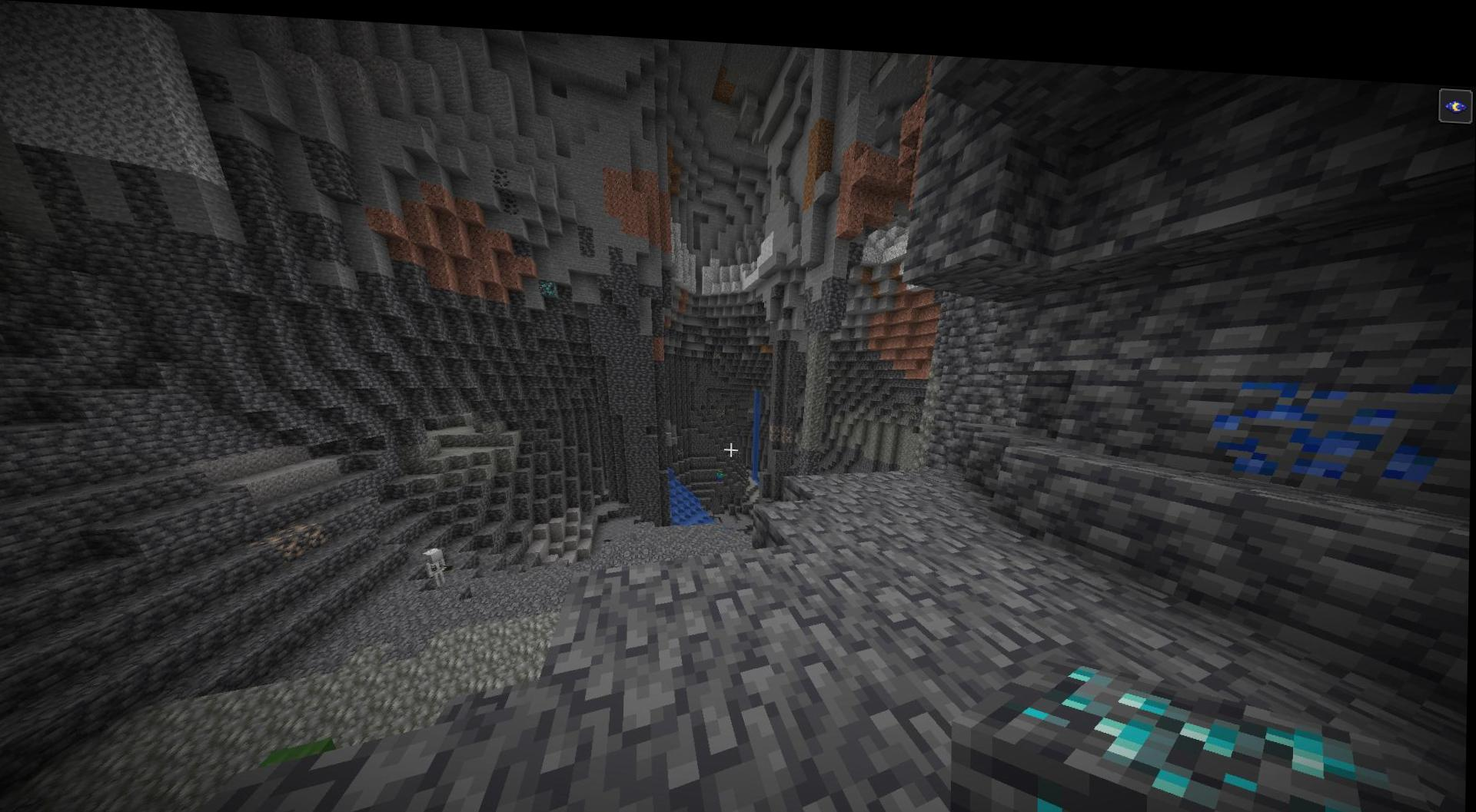diamond ore: (1006, 645, 1420, 812), (541, 271, 561, 291)
iron ore: (258, 514, 328, 553), (771, 414, 795, 436)
